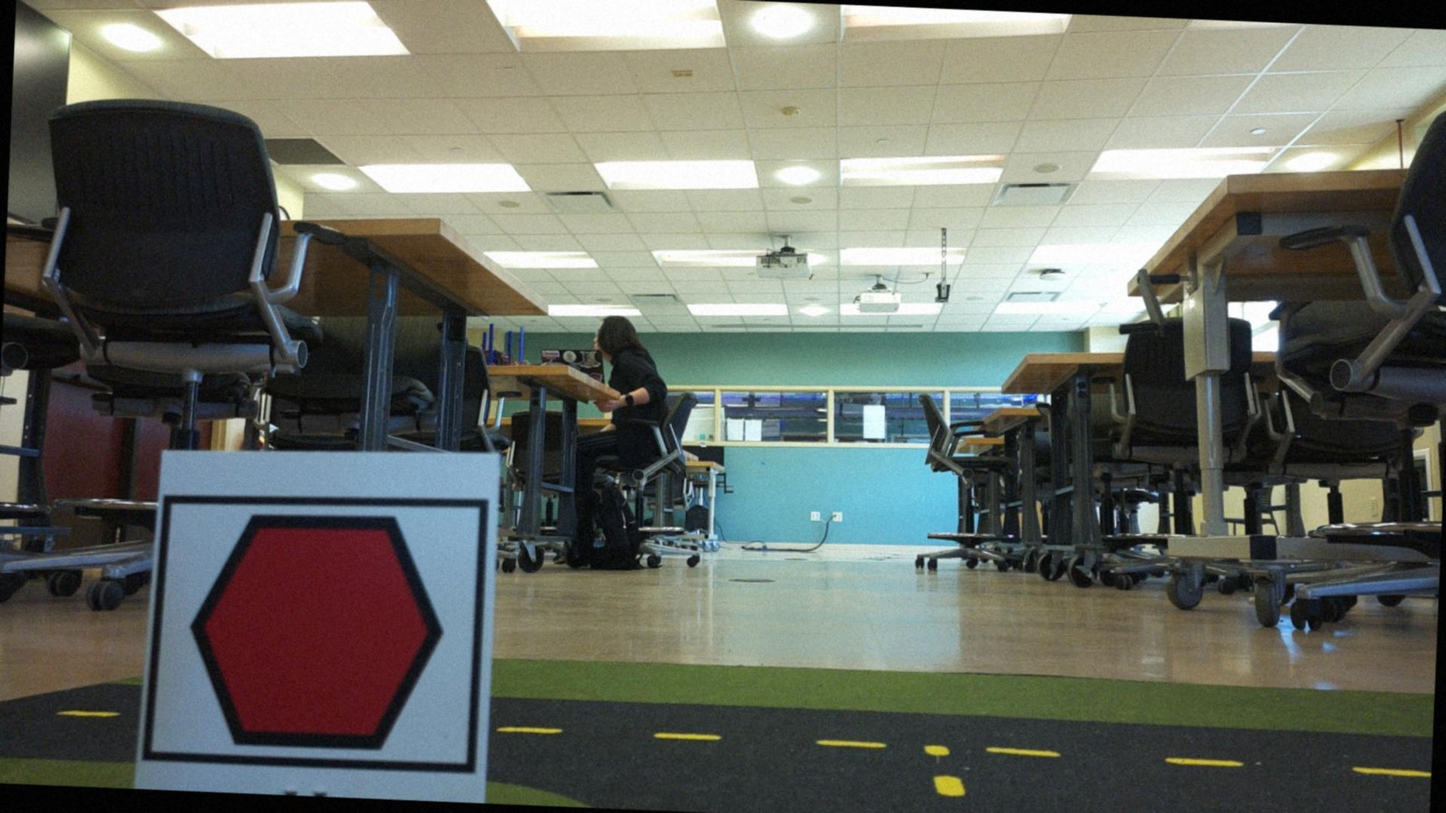stop: (174, 498, 462, 766)
yellowline: (504, 722, 1432, 778), (917, 740, 969, 801)
